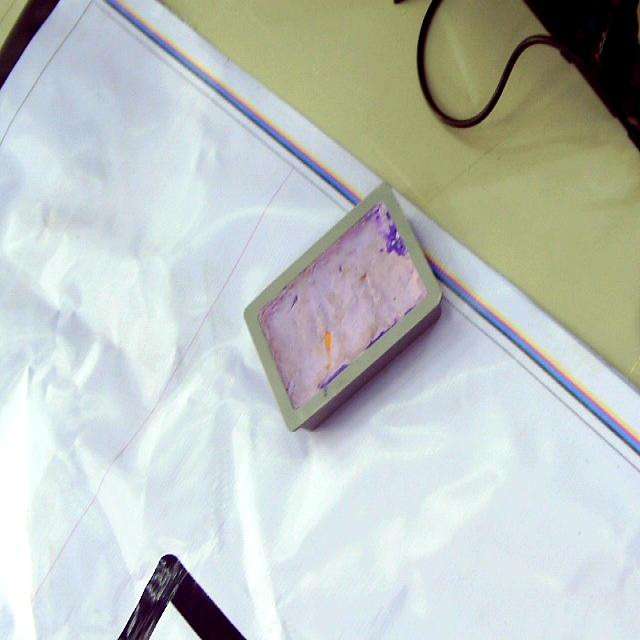block: (242, 183, 444, 432)
